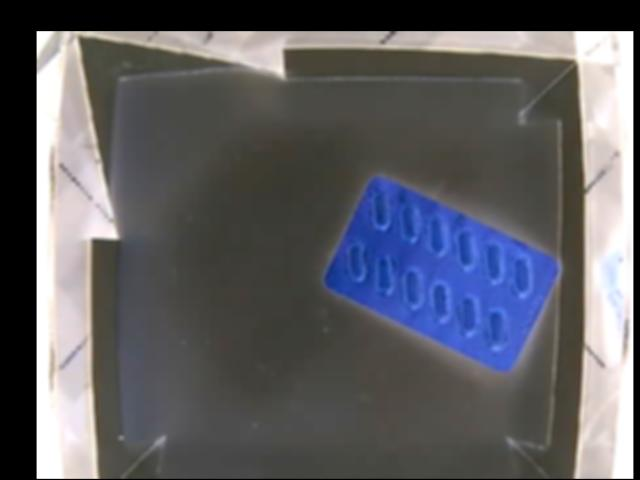Medicine: (326, 178, 562, 371)
